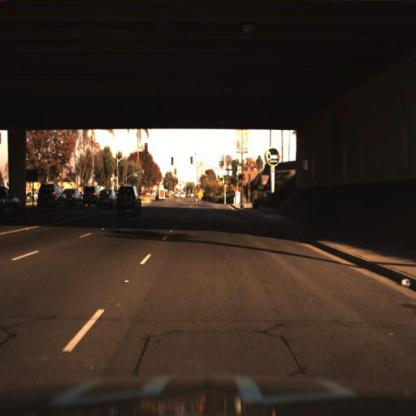car: (113, 184, 144, 220), (35, 183, 69, 213), (1, 186, 22, 222), (62, 187, 86, 211), (98, 187, 117, 211), (82, 185, 101, 206), (82, 185, 98, 206), (152, 187, 168, 203)
trafficLight-Green: (236, 164, 241, 182)
